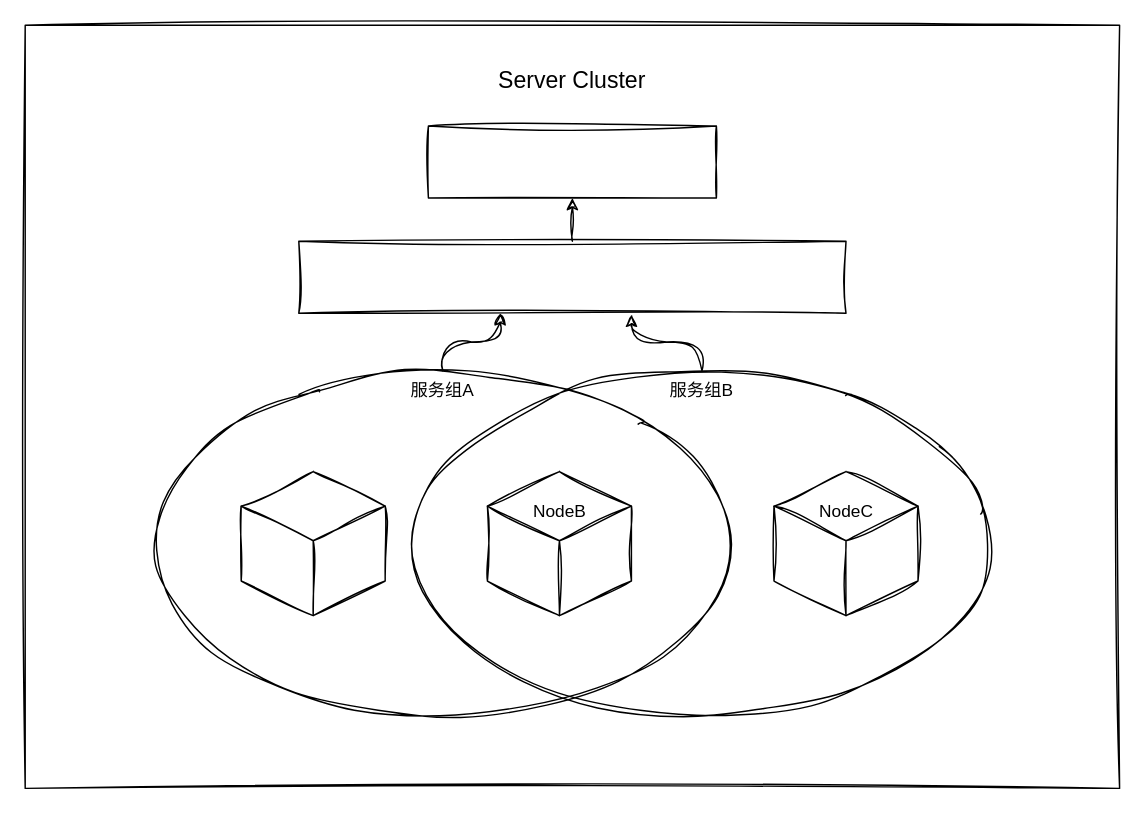
Some shapes in this 1145 by 814 pixel diagram are drawn without their labels. The shapes that lost their labels are listed below. From the top down, each one's centre as x and y in pixels, then its label:
At [571,161]: "NLB".
At [571,276]: "BNS".
At [312,543]: "NodeA".
